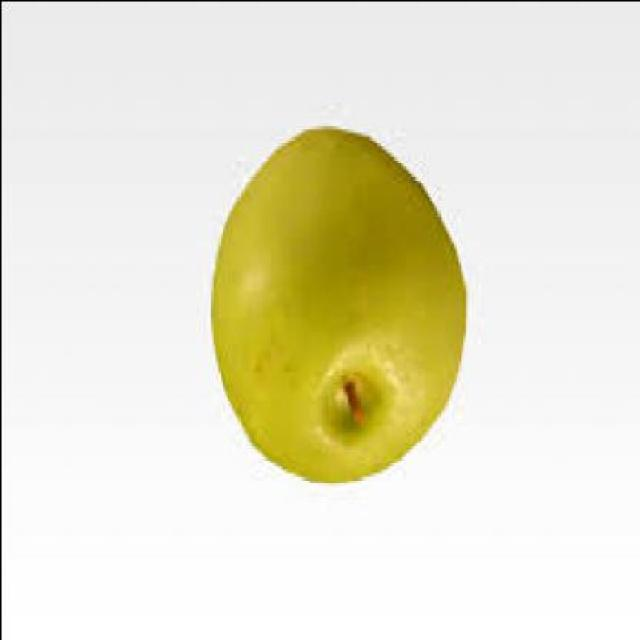BIODEGRADABLE: (212, 128, 465, 485)
